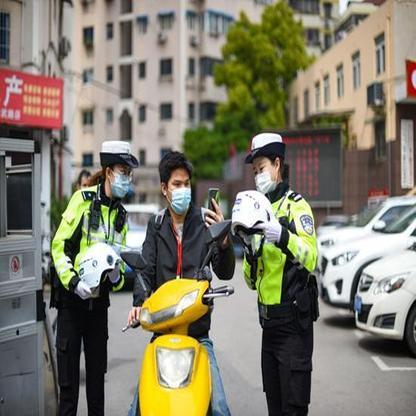target: (123, 148, 234, 413)
